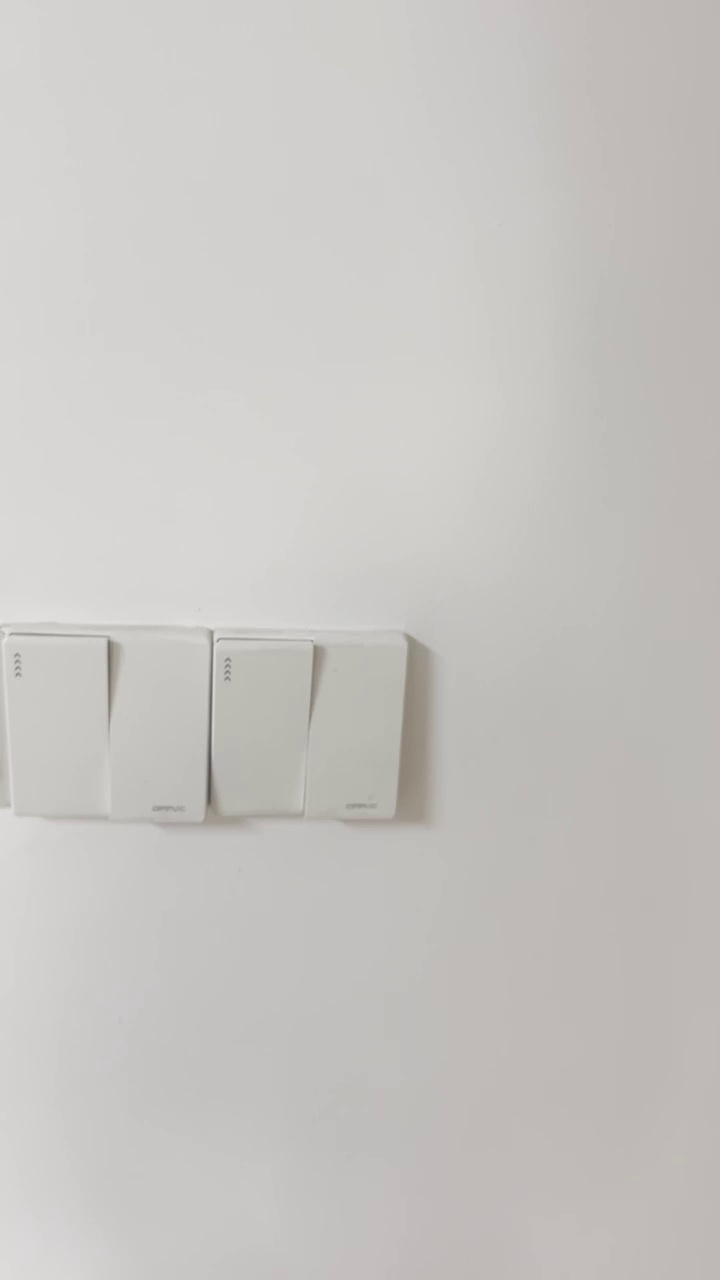button: (1, 631, 212, 828), (212, 629, 403, 819)
